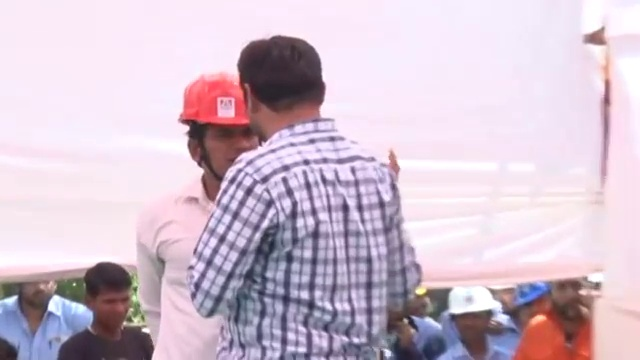helmet: (178, 71, 253, 132), (448, 291, 500, 320), (512, 280, 547, 310)
helmet_off: (233, 30, 326, 142), (67, 271, 144, 326), (547, 277, 586, 313), (15, 280, 55, 311)
helmet_on: (179, 72, 253, 193), (451, 289, 501, 355), (513, 281, 552, 328)
person: (188, 27, 423, 360), (134, 68, 258, 360), (60, 273, 153, 357), (2, 278, 89, 357), (514, 279, 595, 359), (433, 295, 512, 360)
